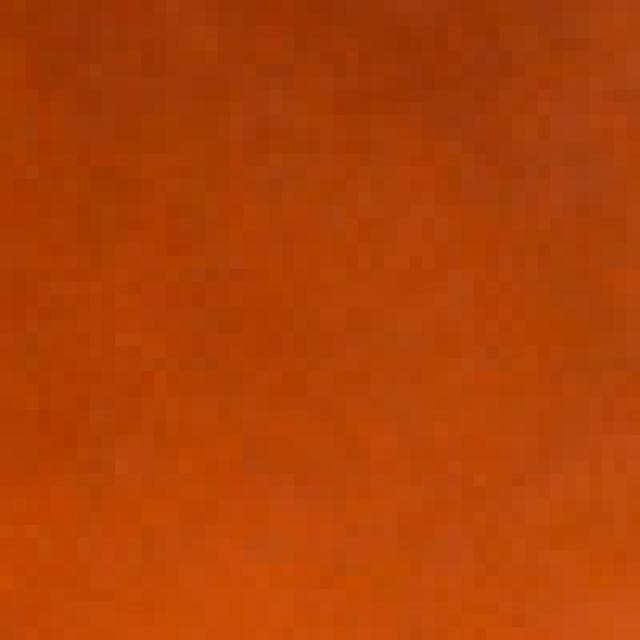fire: (0, 25, 627, 640)
